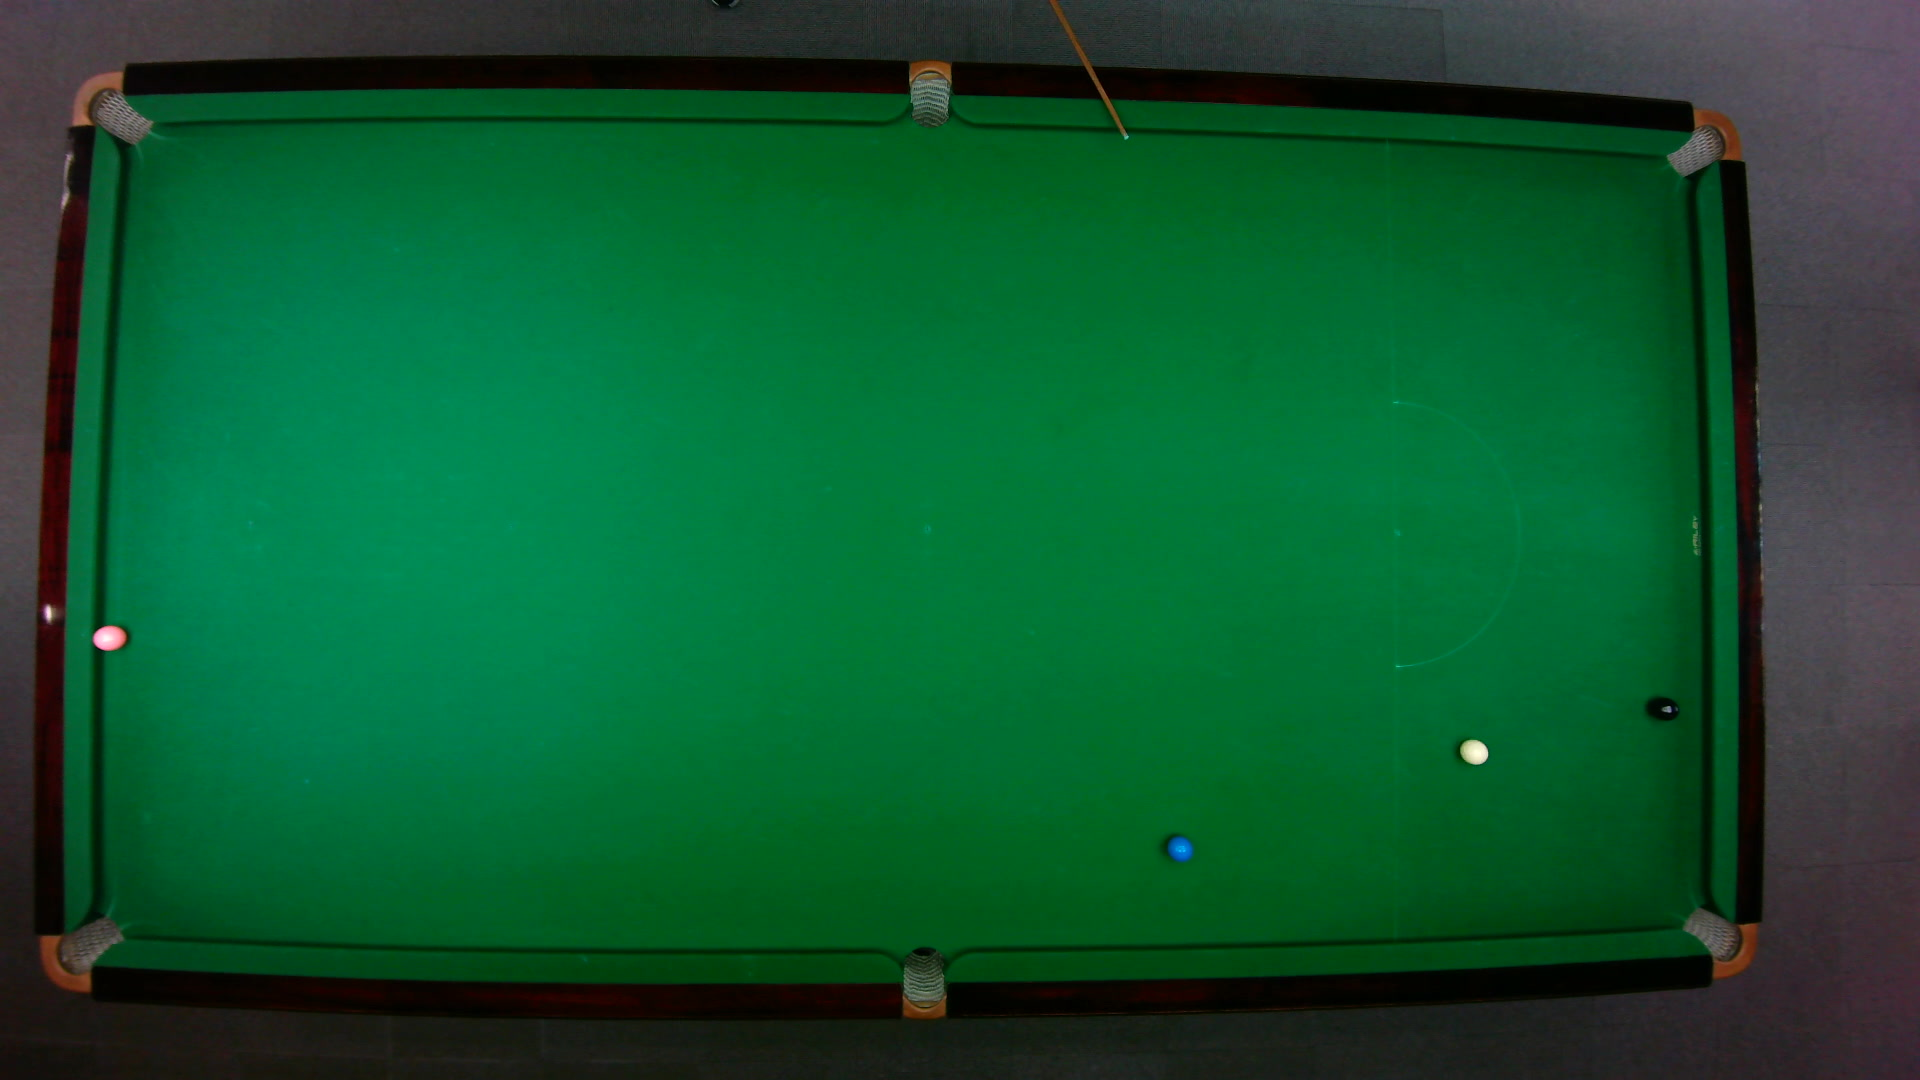bag: (37, 914, 125, 992), (69, 69, 153, 145), (1677, 905, 1756, 978), (1663, 107, 1741, 177), (901, 944, 944, 1021), (909, 58, 949, 128)
black: (1650, 695, 1679, 721)
blue: (1164, 833, 1193, 861)
cue: (1050, 0, 1127, 141)
pink: (88, 621, 128, 651)
white: (1457, 737, 1489, 765)
zone: (1390, 400, 1520, 669)
